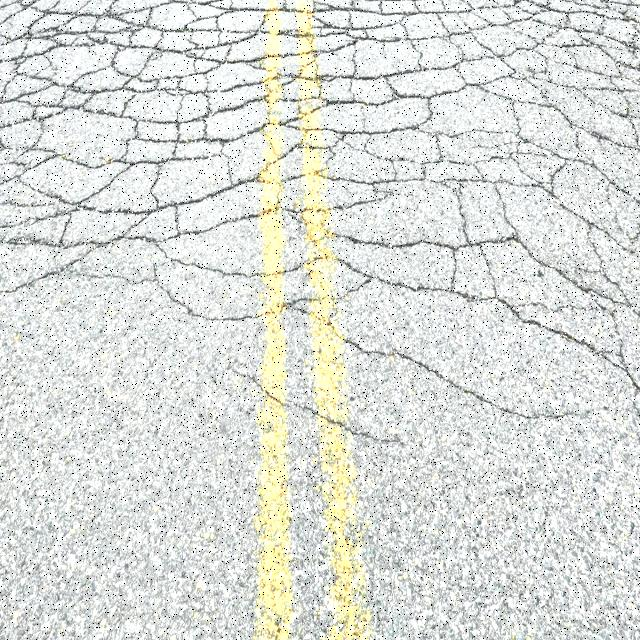Crack: (332, 178, 639, 393), (325, 320, 590, 421), (18, 138, 337, 208), (487, 182, 640, 316), (70, 264, 323, 324), (0, 206, 155, 295), (28, 116, 278, 171), (230, 368, 402, 445), (262, 58, 518, 107), (0, 89, 271, 131), (55, 28, 263, 82), (192, 0, 640, 24), (543, 34, 640, 141), (277, 39, 465, 82), (127, 233, 303, 278), (343, 9, 548, 44), (278, 97, 434, 139), (54, 71, 274, 98), (31, 0, 172, 40), (462, 15, 571, 64), (550, 157, 640, 207), (159, 206, 273, 243), (159, 185, 235, 237), (275, 11, 406, 40), (69, 208, 155, 250), (316, 170, 391, 214), (0, 209, 74, 251), (221, 40, 350, 63), (0, 0, 63, 46), (564, 25, 640, 61), (0, 56, 55, 105), (144, 0, 220, 33), (34, 16, 99, 48), (97, 8, 153, 34), (576, 128, 639, 151), (69, 203, 150, 217), (0, 0, 43, 26), (561, 0, 628, 14), (182, 27, 273, 37), (47, 0, 94, 16), (25, 42, 58, 60), (17, 31, 33, 61), (600, 0, 640, 7), (0, 0, 24, 10)
